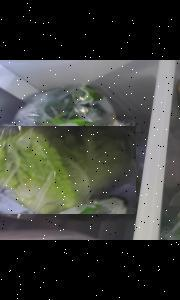Lechuga/Endivia: (0, 126, 135, 214)
